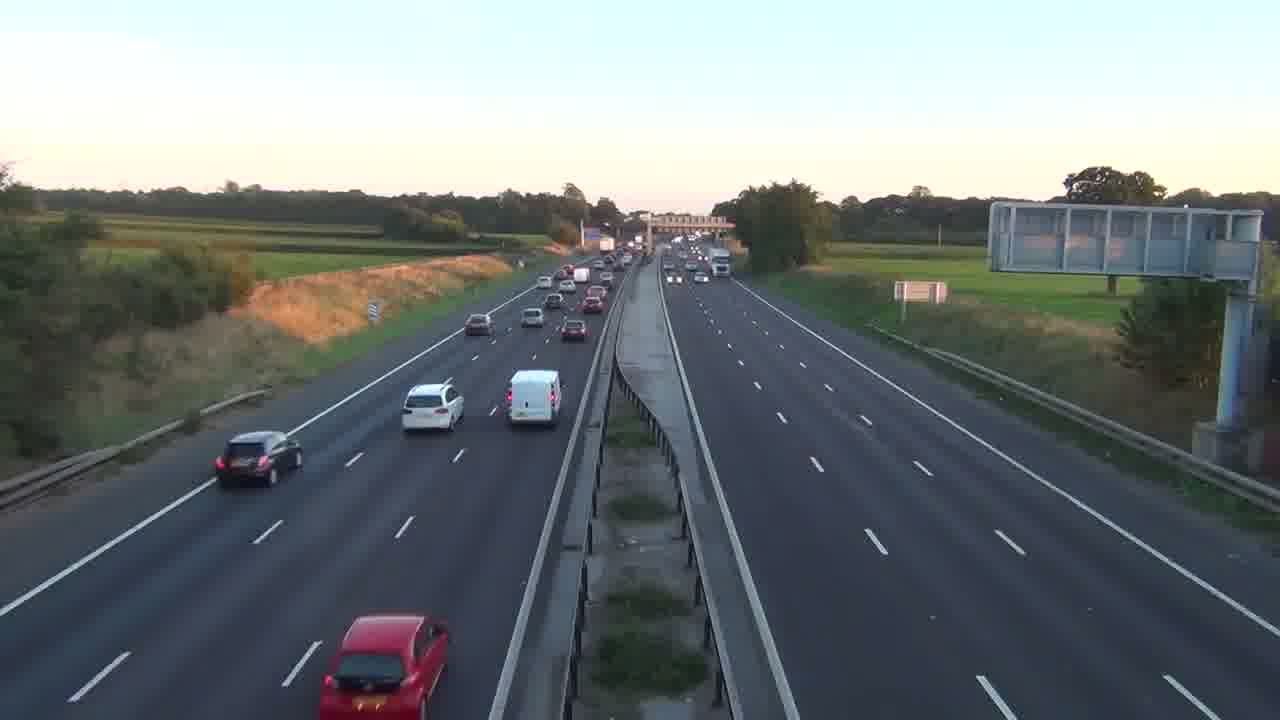car: (318, 610, 450, 718), (212, 429, 305, 488), (400, 380, 465, 433), (505, 368, 562, 427), (578, 285, 607, 314), (463, 312, 495, 337), (559, 317, 590, 342), (521, 307, 544, 327)
